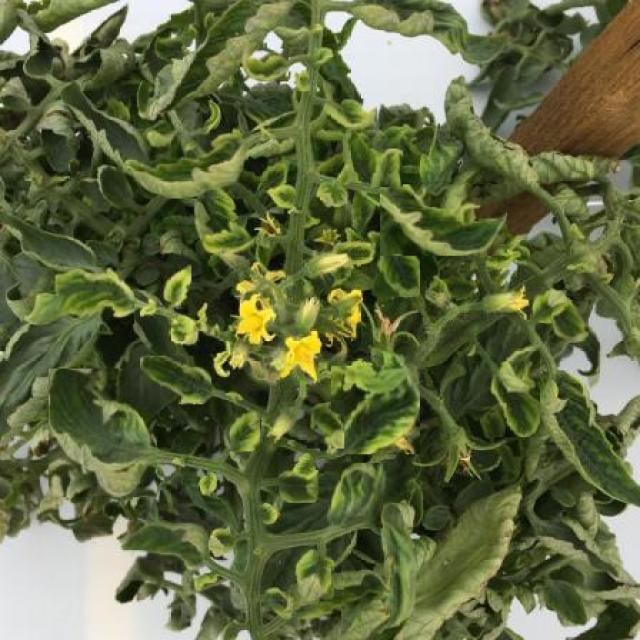Yellow Leaf Curl Virus: (48, 369, 158, 497), (380, 184, 507, 256), (122, 133, 249, 198), (330, 366, 420, 455), (21, 268, 135, 325), (490, 343, 540, 438), (120, 520, 208, 571), (324, 464, 383, 529), (141, 356, 212, 404), (377, 244, 420, 297), (294, 548, 334, 602), (200, 221, 254, 256), (307, 401, 344, 449), (323, 99, 378, 131), (242, 48, 288, 82), (552, 300, 588, 343), (368, 149, 403, 187), (280, 470, 320, 503), (228, 410, 260, 451), (533, 289, 567, 324), (163, 264, 191, 306)
